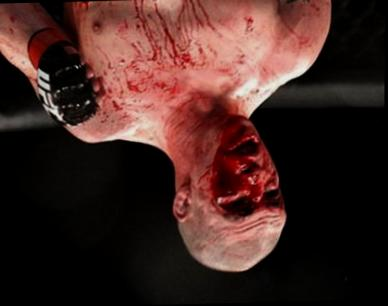Fire: (61, 0, 330, 160), (198, 115, 286, 219), (0, 3, 60, 90)
